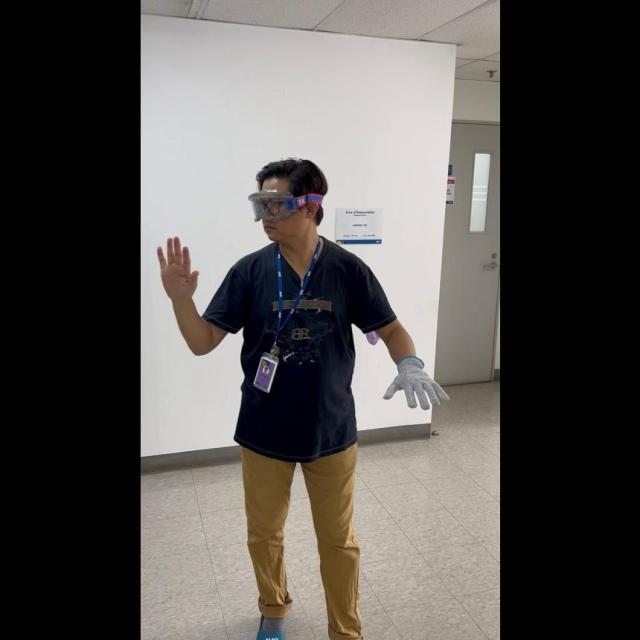bare_hand: (156, 230, 198, 303)
gloved_hand: (379, 354, 446, 410)
